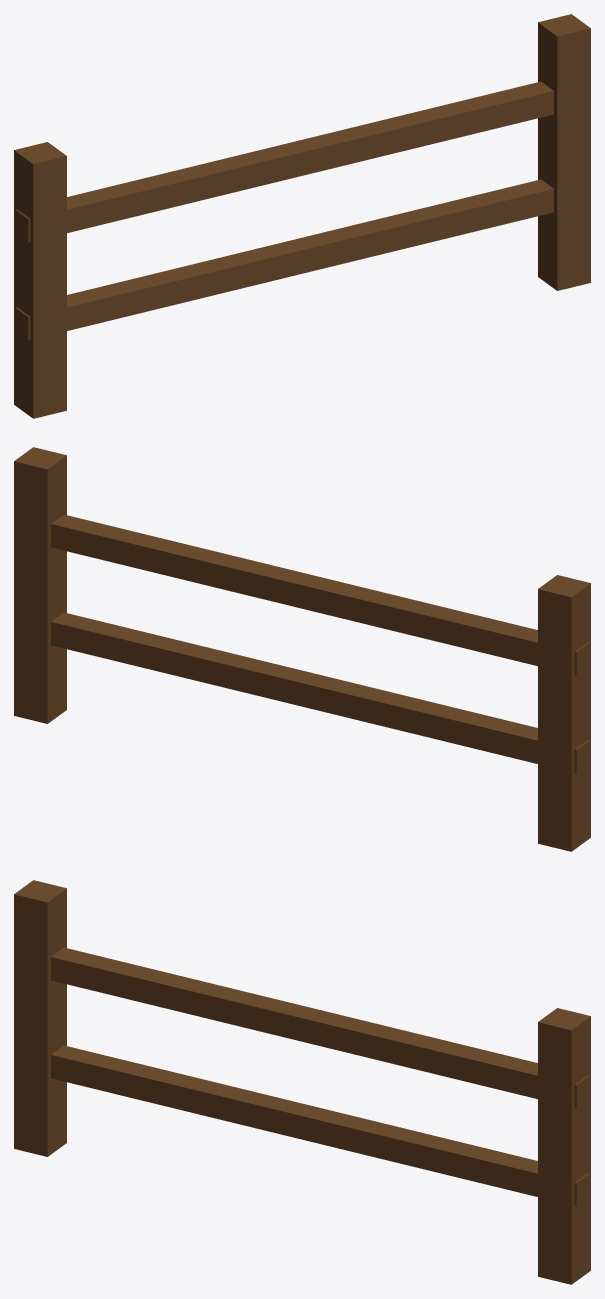
The model's file is wooden_fence.glb.
3 renders of one model, top to bottom at view 1: azimuth 30°, elevation 25°; view 2: azimuth 150°, elevation 25°; view 3: azimuth 330°, elevation 25°, orthographic.
Visible parts, largest first — view 1: wooden_fence; view 2: wooden_fence; view 3: wooden_fence.
Boxes of the visible parts, x1,y1,x2,y2 form: wooden_fence: (14,14,590,418); wooden_fence: (14,447,590,851); wooden_fence: (14,880,590,1284).
Bounding box in the file's own units: 3 × 1.3 × 0.18.
